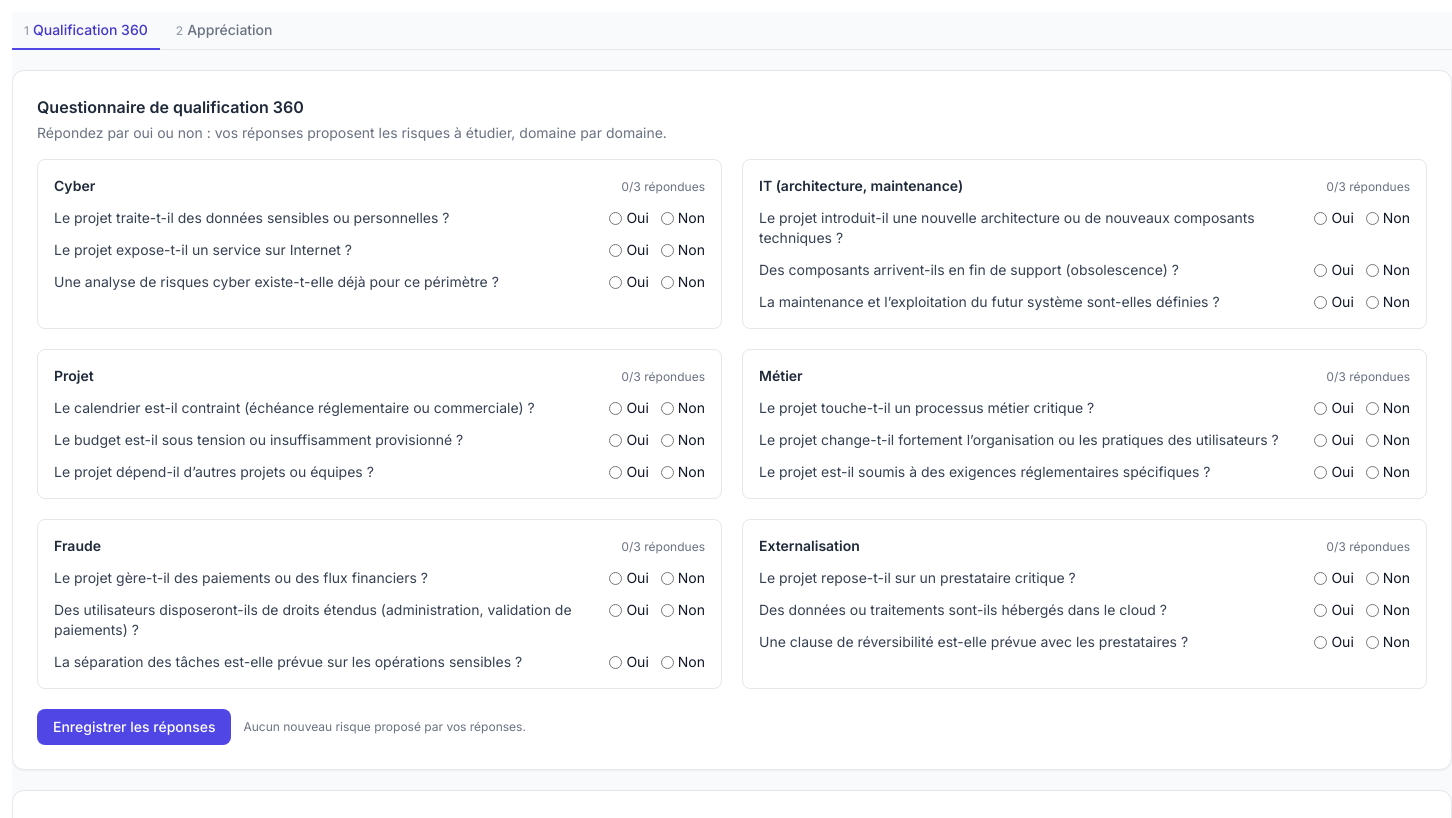
Test: Questionnaire360 — persistance et risques proposés › les réponses enregistrées survivent au changement de phase du projet
The width and height of the screenshot is (1452, 818).
Step 1. Click the 3rd radio button labelled "Oui" → (616, 250), box [609,244,622,256]
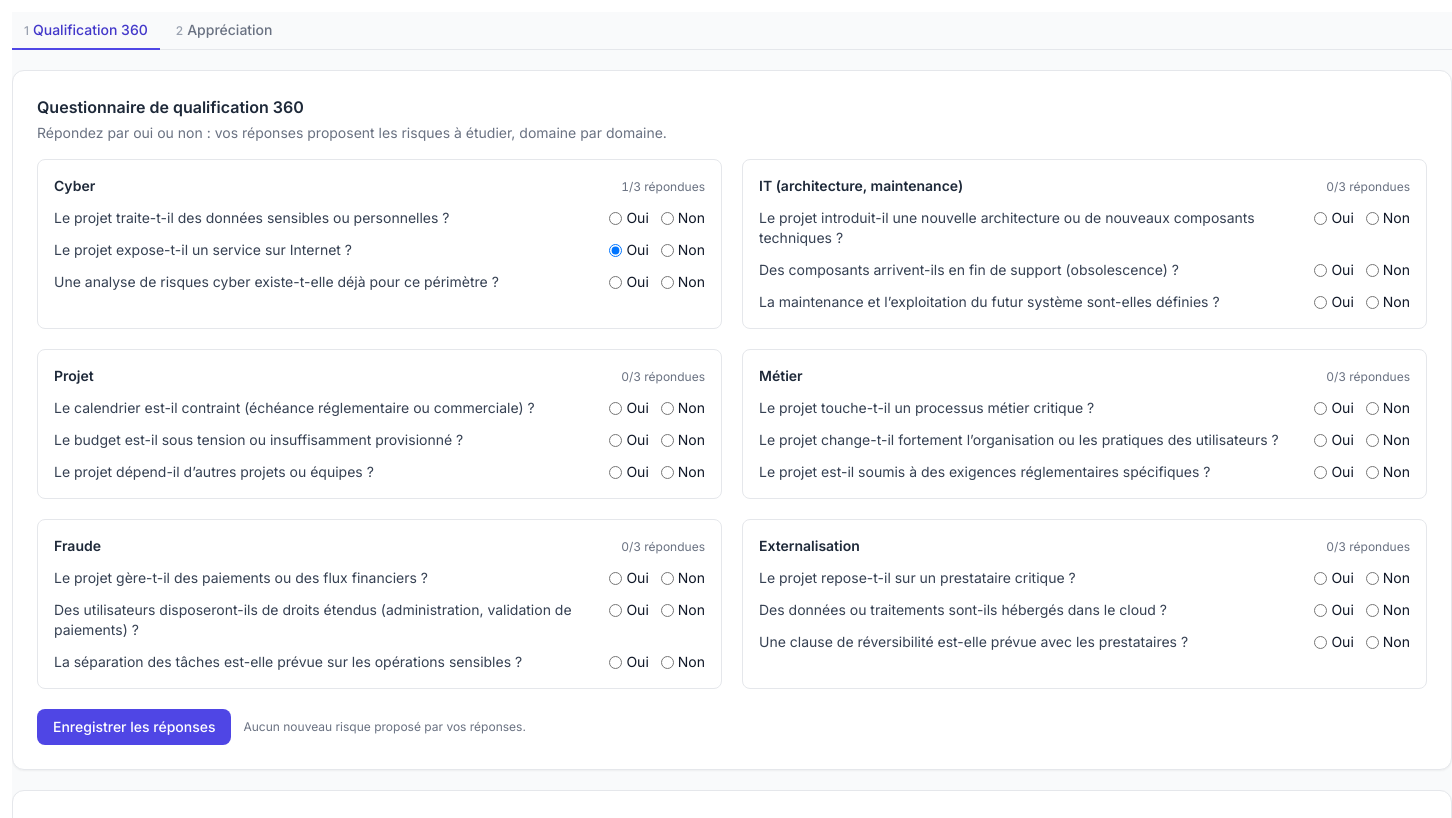
Step 2. Click the button "Enregistrer les réponses" → (134, 727), box [37,709,232,745]
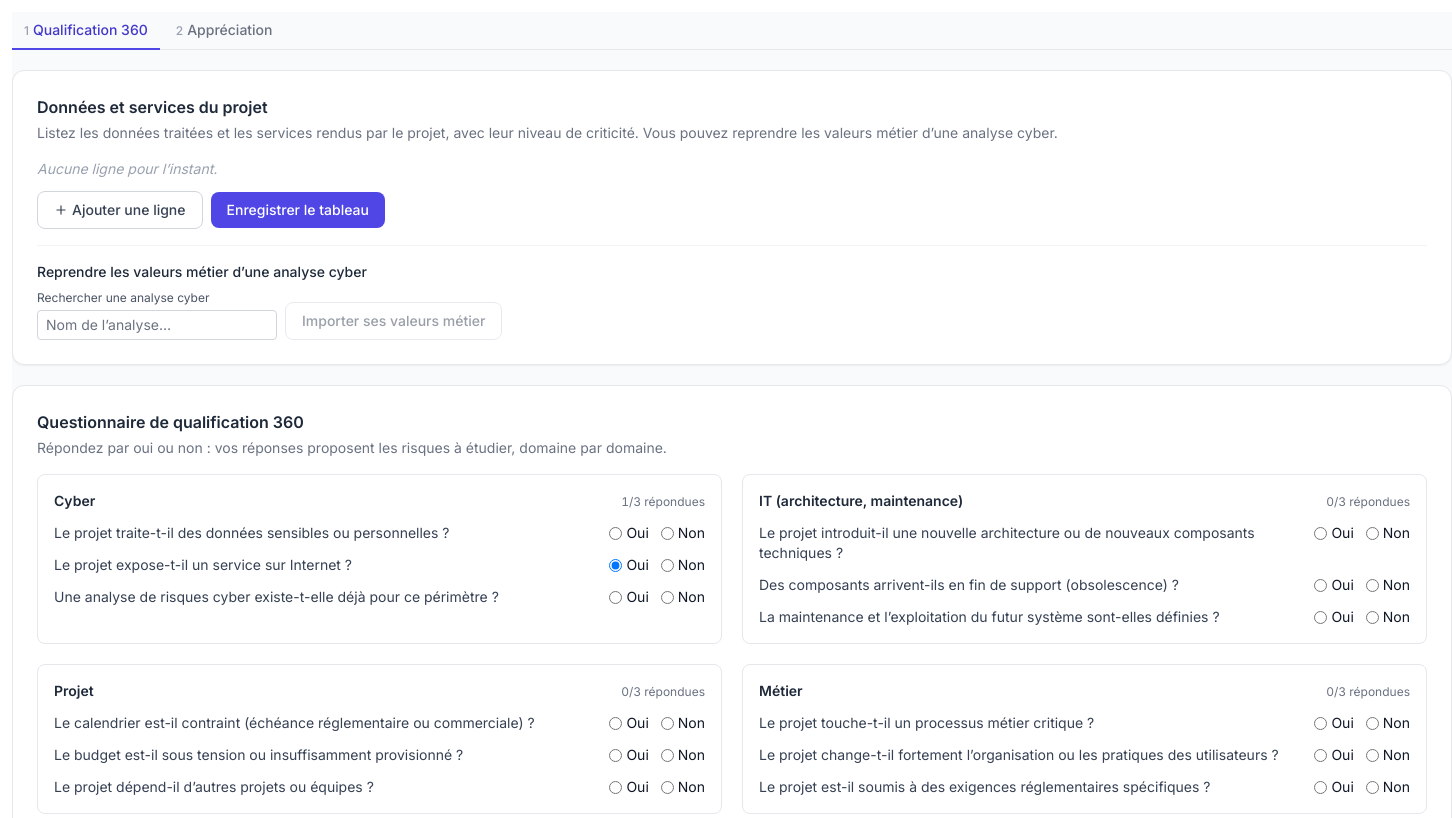
Step 3. Click the button "2Appréciation" → (224, 31), box [164,12,285,50]
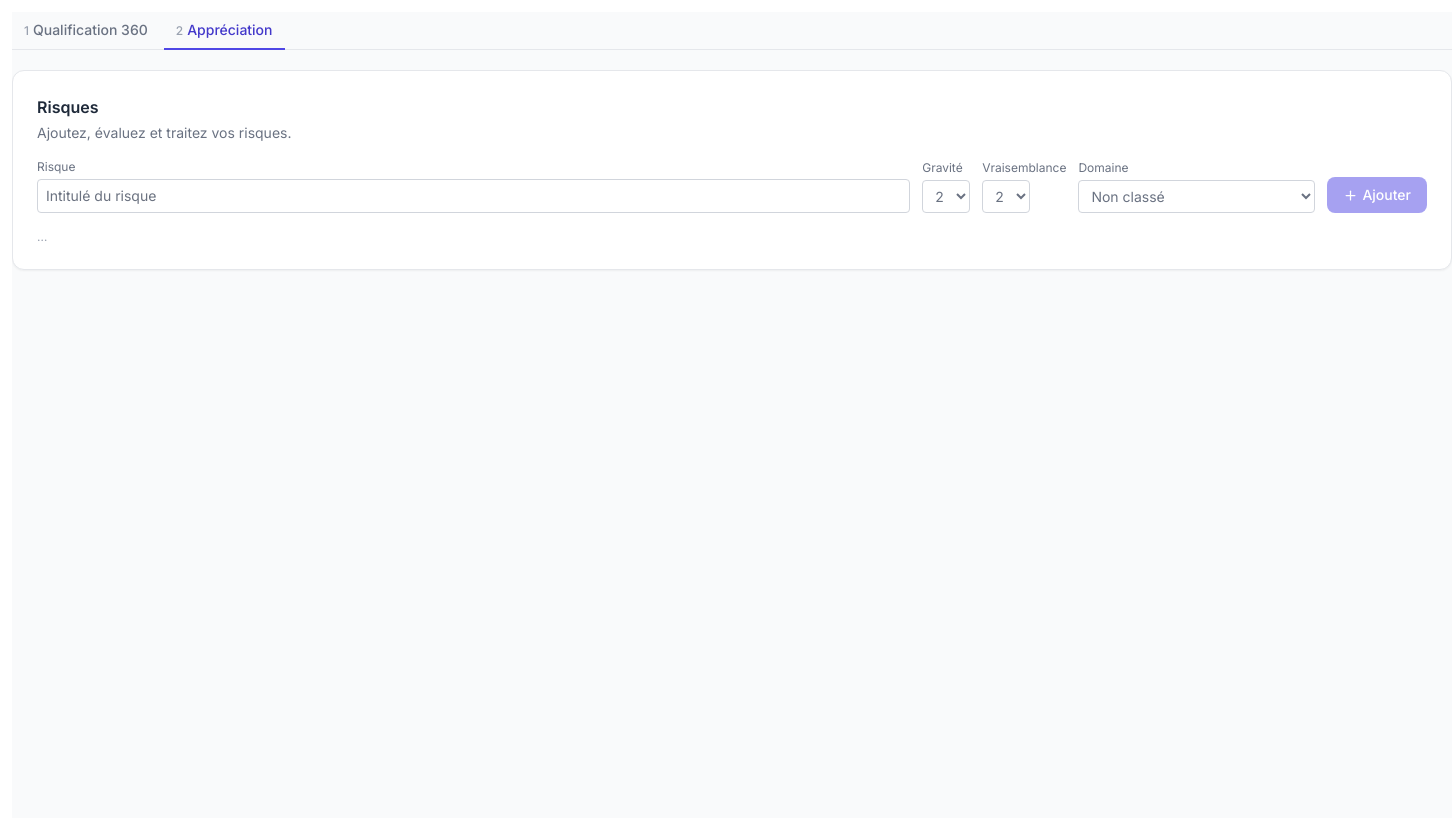
Step 4. Click the button "1Qualification 360" → (86, 31), box [12,12,160,50]
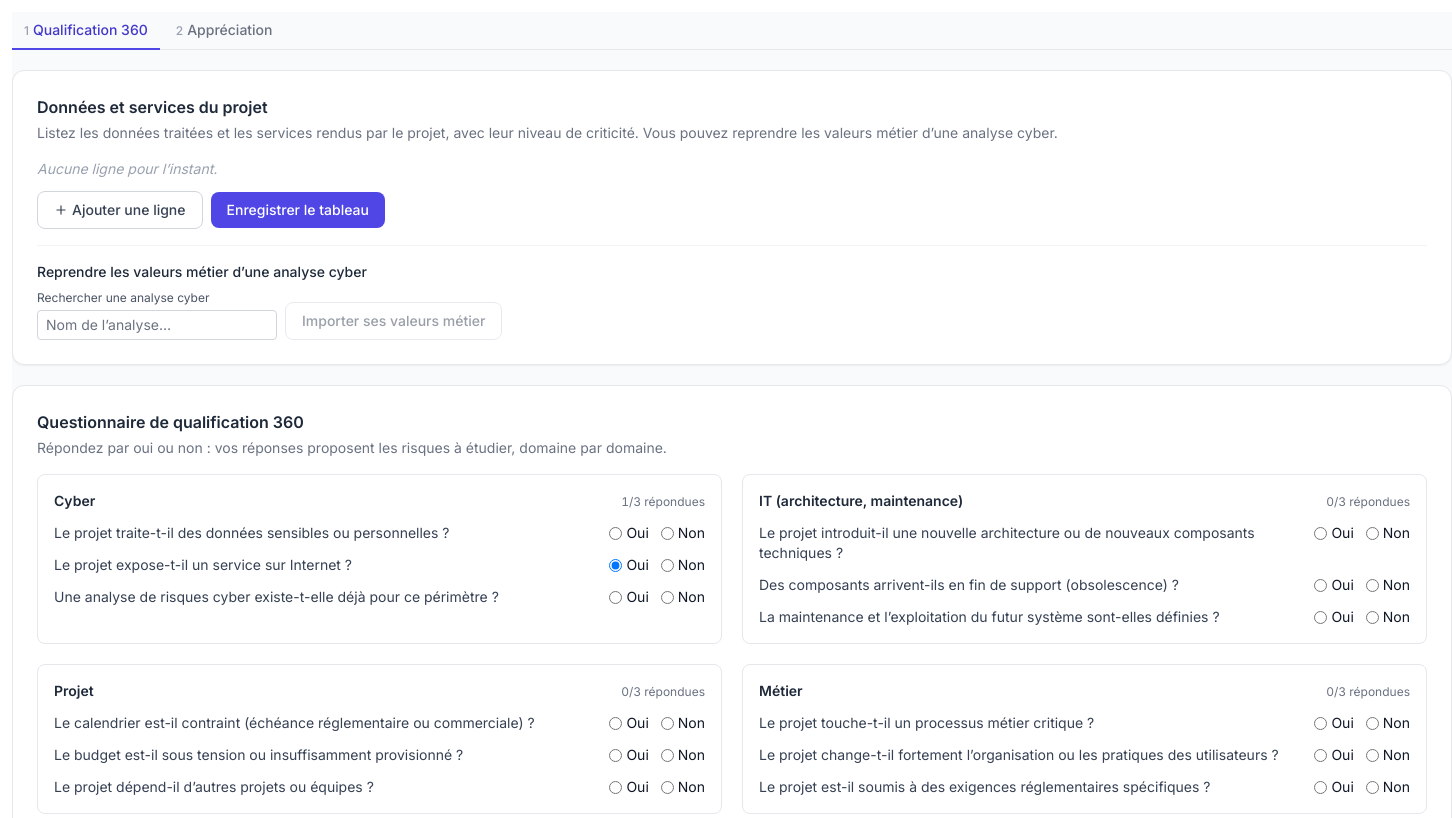
Now the 3rd radio button labelled "Oui" is checked, box [609,558,622,572]
